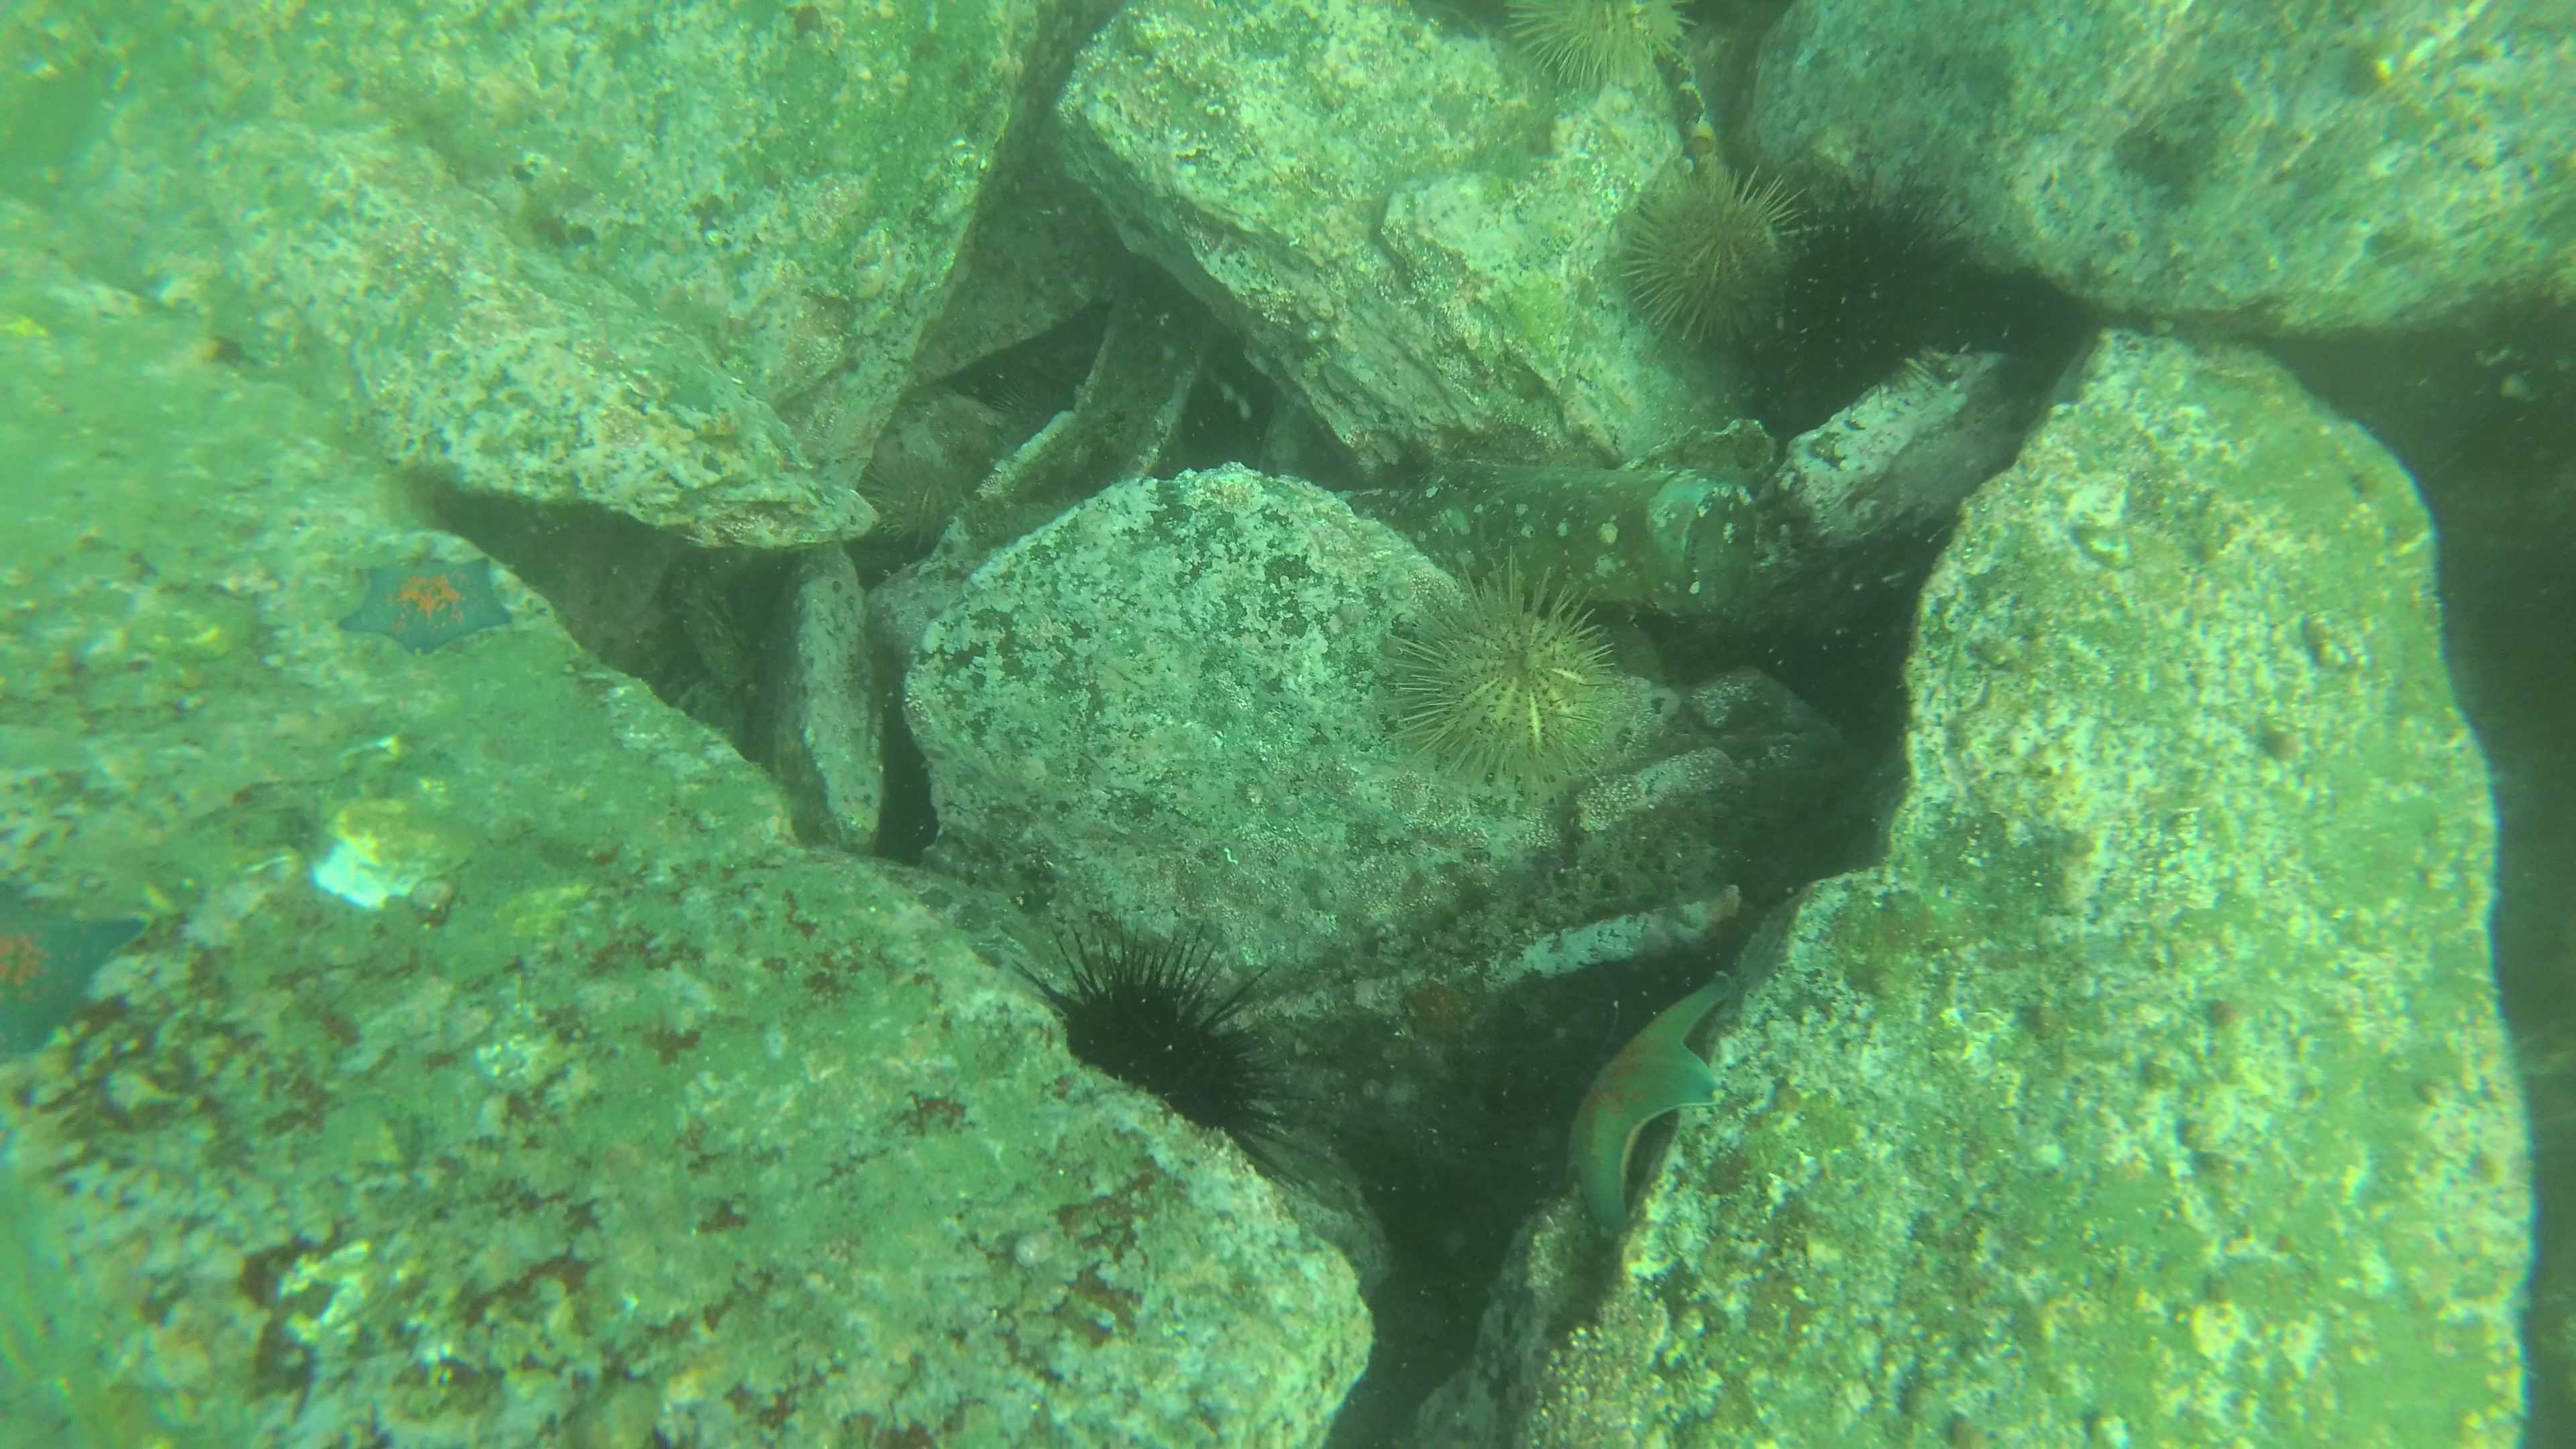echinus: (1024, 916, 1306, 1185), (1762, 166, 1994, 419), (1398, 563, 1633, 793), (1626, 150, 1821, 345), (1504, 0, 1697, 97), (865, 451, 971, 554)
starfish: (1562, 964, 1737, 1246), (345, 557, 508, 663)
